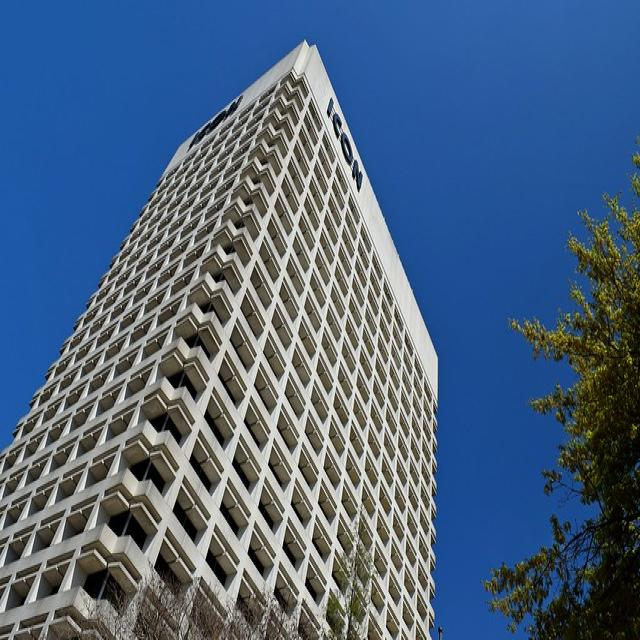building: (0, 41, 434, 635)
